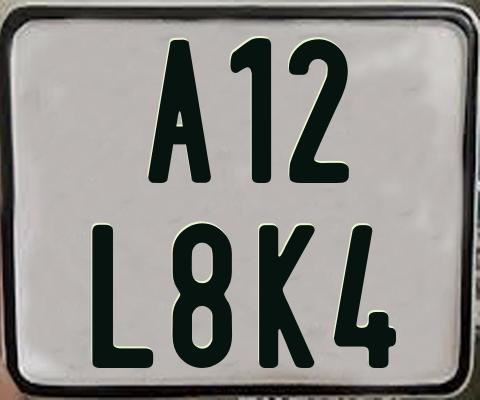1: (230, 37, 274, 187)
2: (288, 38, 348, 186)
4: (334, 225, 396, 368)
8: (169, 223, 232, 368)
A: (146, 38, 210, 184)
K: (258, 224, 319, 372)
L: (89, 224, 151, 369)
